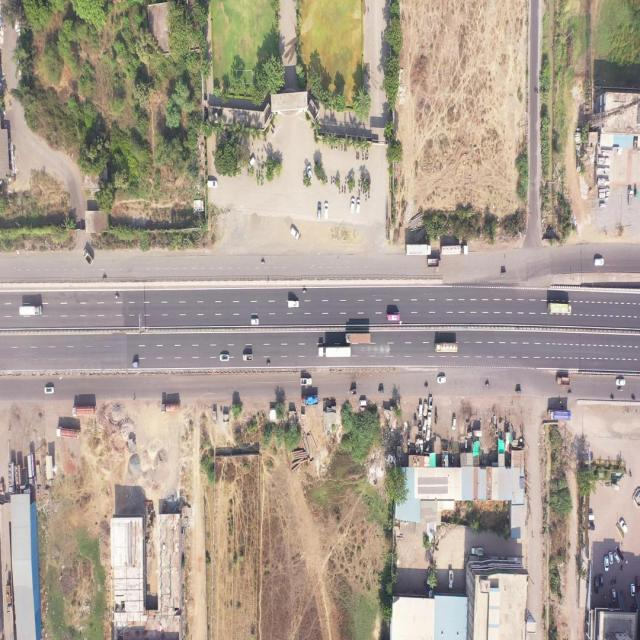3W: (130, 359, 140, 370), (499, 267, 508, 278), (350, 388, 358, 397), (515, 387, 522, 396), (378, 387, 385, 395)
Bus: (545, 301, 574, 315), (405, 244, 432, 256), (386, 314, 402, 322)
Cars: (290, 225, 300, 241), (207, 178, 220, 189), (218, 353, 230, 364), (44, 385, 55, 396), (248, 316, 260, 326), (316, 202, 322, 222), (615, 377, 627, 387), (437, 375, 447, 386), (349, 196, 355, 213), (355, 198, 361, 214), (324, 202, 329, 220), (451, 416, 457, 431), (594, 258, 605, 266)
LCV: (83, 249, 94, 268), (242, 350, 255, 363), (287, 298, 301, 310), (300, 376, 314, 388), (359, 399, 368, 407)
M2W: (265, 357, 272, 367), (302, 287, 308, 297), (484, 379, 490, 388), (609, 393, 615, 401), (114, 293, 120, 300), (567, 389, 573, 396), (630, 394, 636, 401), (102, 275, 108, 281), (424, 382, 429, 388), (618, 388, 624, 393), (261, 258, 265, 265)
MAV: (318, 346, 352, 358), (56, 426, 81, 440), (434, 340, 459, 354), (440, 244, 469, 256), (72, 404, 98, 417), (345, 332, 371, 345), (548, 408, 572, 422), (18, 304, 44, 316)
Truck: (160, 400, 183, 416), (300, 394, 320, 408), (555, 375, 572, 387), (427, 258, 442, 269)
